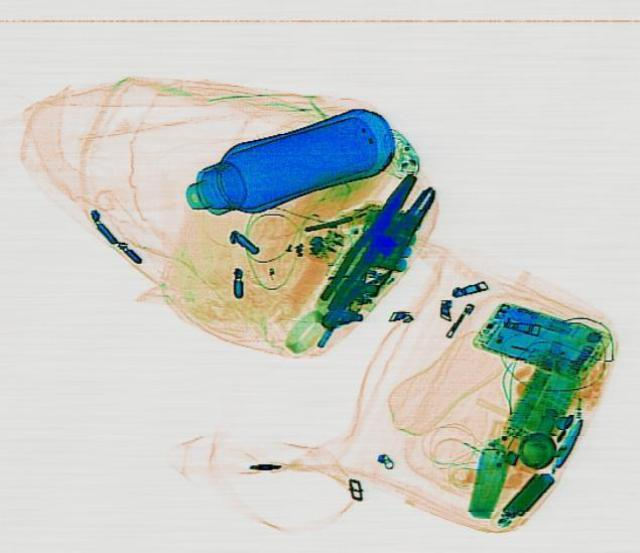Pliers: (324, 177, 444, 318)
